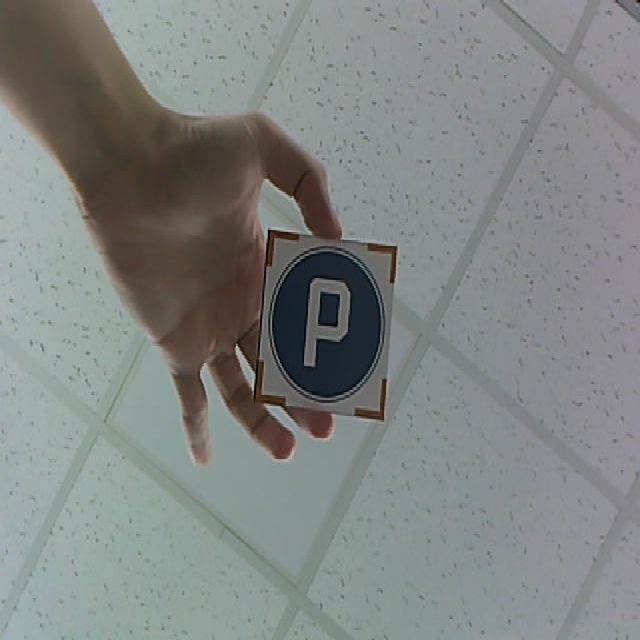parking: (251, 227, 398, 422)
